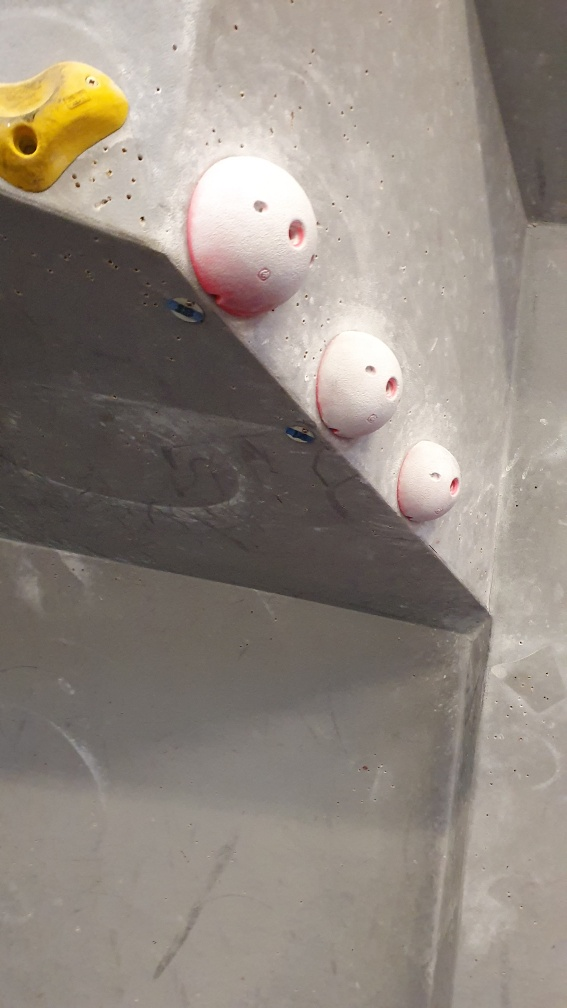Hand Start: (166, 293, 203, 331), (284, 421, 318, 452)
Sloper: (176, 145, 320, 321), (313, 326, 406, 448), (396, 437, 465, 530)
